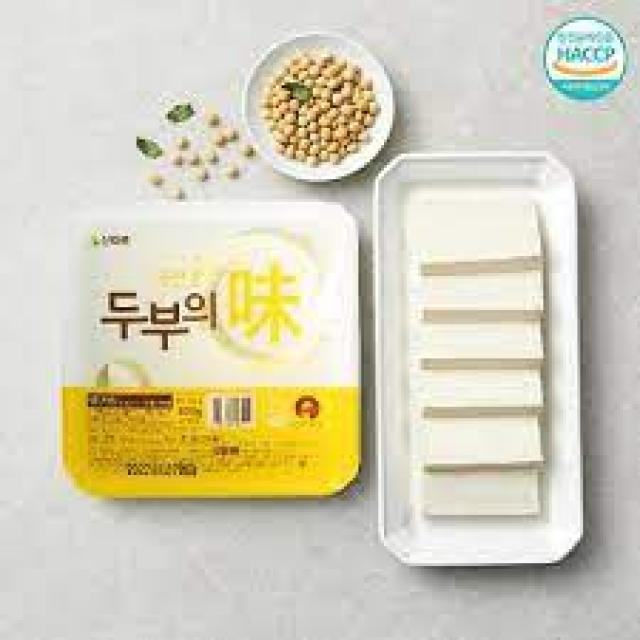tofu: (51, 201, 377, 507), (387, 184, 559, 540)
